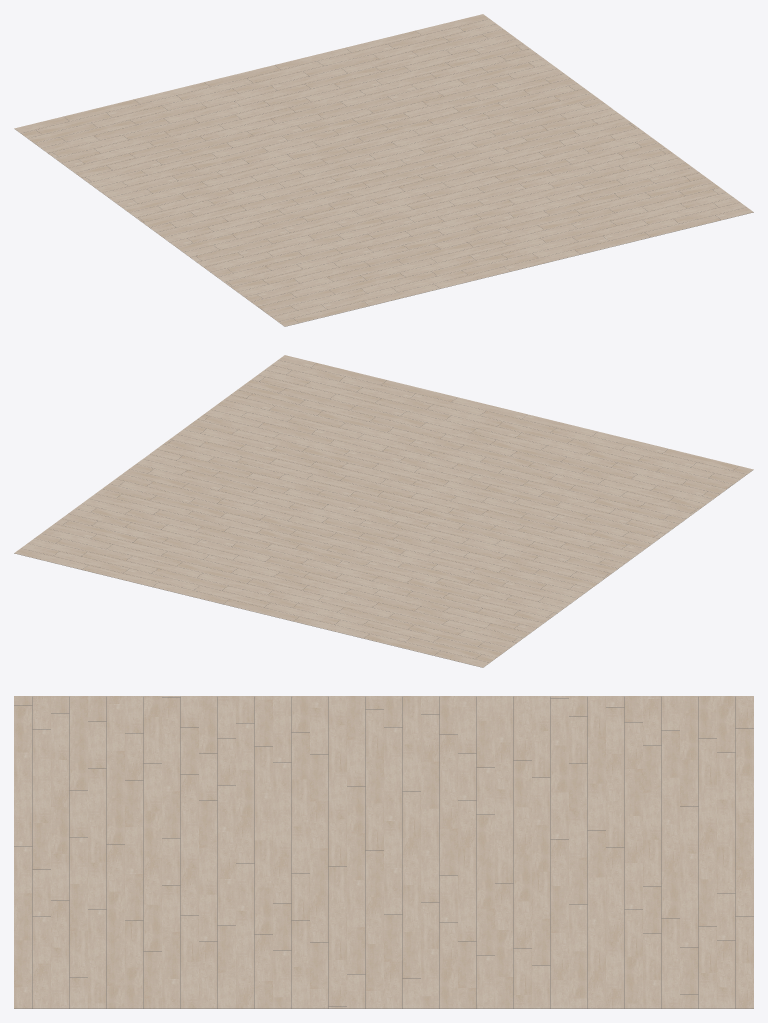
Rendered from liege-beige-20x120.glb.
The picture shows the model from 3 angles, top to bottom: view 1: azimuth 30°, elevation 25°; view 2: azimuth 150°, elevation 25°; view 3: azimuth 270°, elevation 25°; orthographic projection. The views are drawn at different scales.
Visible parts, largest first — view 1: Liege Beige; view 2: Liege Beige; view 3: Liege Beige.
Part boxes in pixels (<box>): Liege Beige: <box>14,14,753,326</box>; Liege Beige: <box>14,355,753,667</box>; Liege Beige: <box>14,696,753,1008</box>.
Bounding box in the file's own units: 8 × 0.003 × 8.
Materials: 2 (1 with a texture image).
